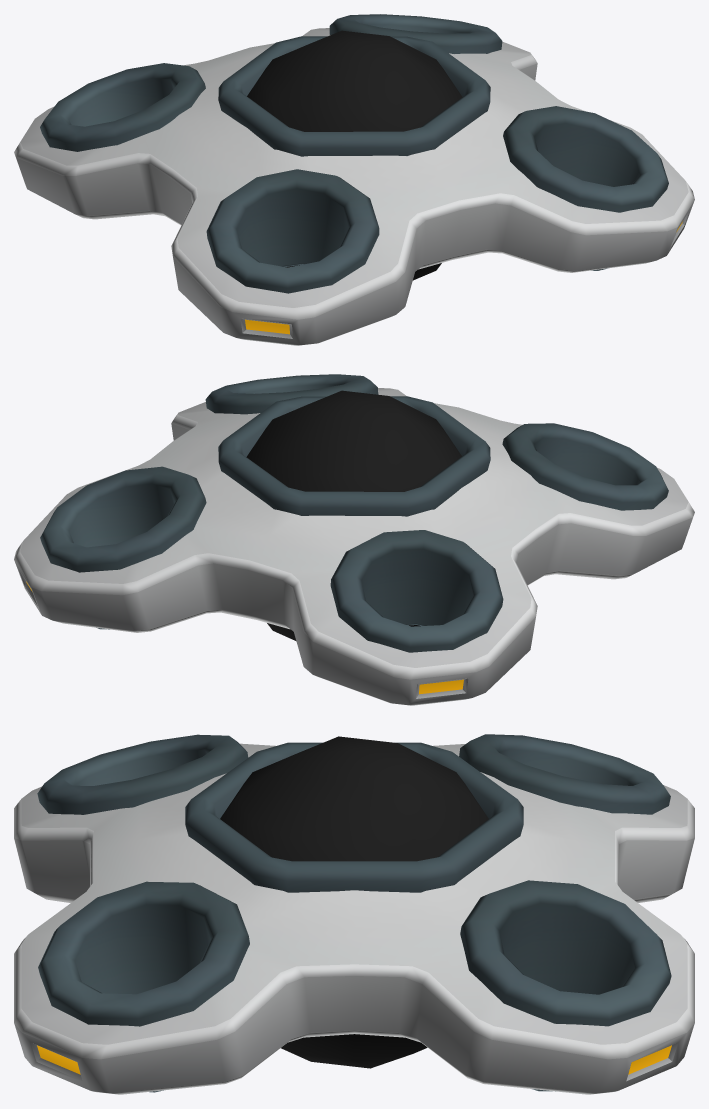
The model's file is Drone_004.glb.
3 renders of one model, top to bottom at view 1: azimuth 30°, elevation 25°; view 2: azimuth 150°, elevation 25°; view 3: azimuth 270°, elevation 25°, orthographic. The views are drawn at different scales.
Parts seen in each view (by area): view 1: Drone_004, Drone_005; view 2: Drone_004, Drone_005; view 3: Drone_004, Drone_005.
Part boxes in pixels (bbox=[...]): Drone_004: bbox=[14, 14, 694, 345]; Drone_005: bbox=[247, 30, 462, 280]; Drone_004: bbox=[14, 374, 694, 705]; Drone_005: bbox=[246, 390, 461, 640]; Drone_004: bbox=[14, 734, 694, 1094]; Drone_005: bbox=[220, 736, 488, 1068].
Size of the model in its own units: 0.6585 by 0.3246 by 0.6585.
3 materials, 2 textured.
